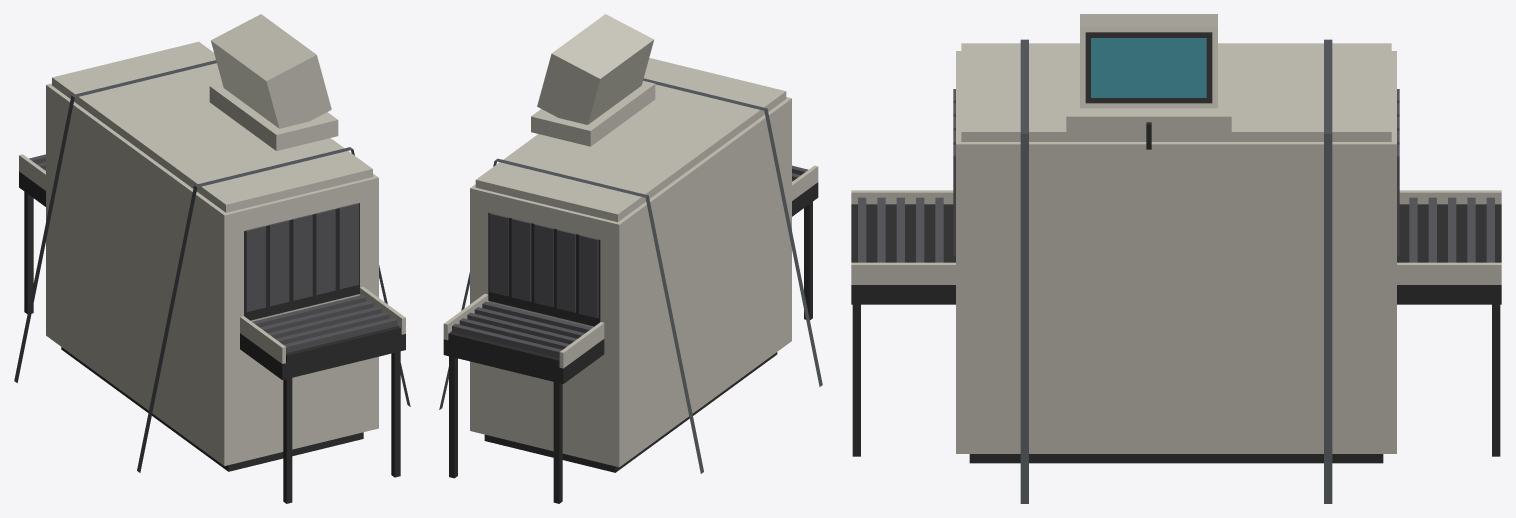
Rendered from xray-machine.glb.
The picture shows the model from 3 angles, left to right: view 1: azimuth 30°, elevation 25°; view 2: azimuth 150°, elevation 25°; view 3: azimuth 270°, elevation 25°; orthographic projection. The views are drawn at different scales.
Visible parts, largest first — view 1: XrayMachine; view 2: XrayMachine; view 3: XrayMachine.
Boxes of the visible parts, bbox=[...] form: XrayMachine: bbox=[14, 14, 410, 503]; XrayMachine: bbox=[439, 14, 822, 503]; XrayMachine: bbox=[851, 14, 1501, 503].
Size of the model in its own units: 1.4 by 1.74 by 2.36.
